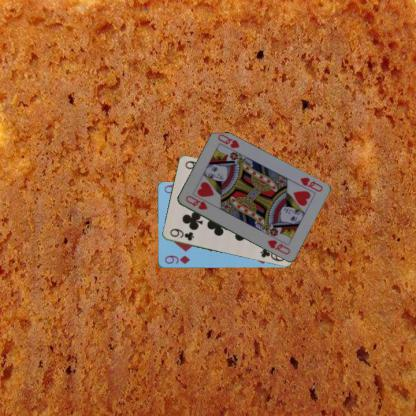9c: (167, 226, 195, 242)
9d: (162, 253, 190, 265)
Qh: (298, 174, 324, 193), (182, 193, 209, 211)
